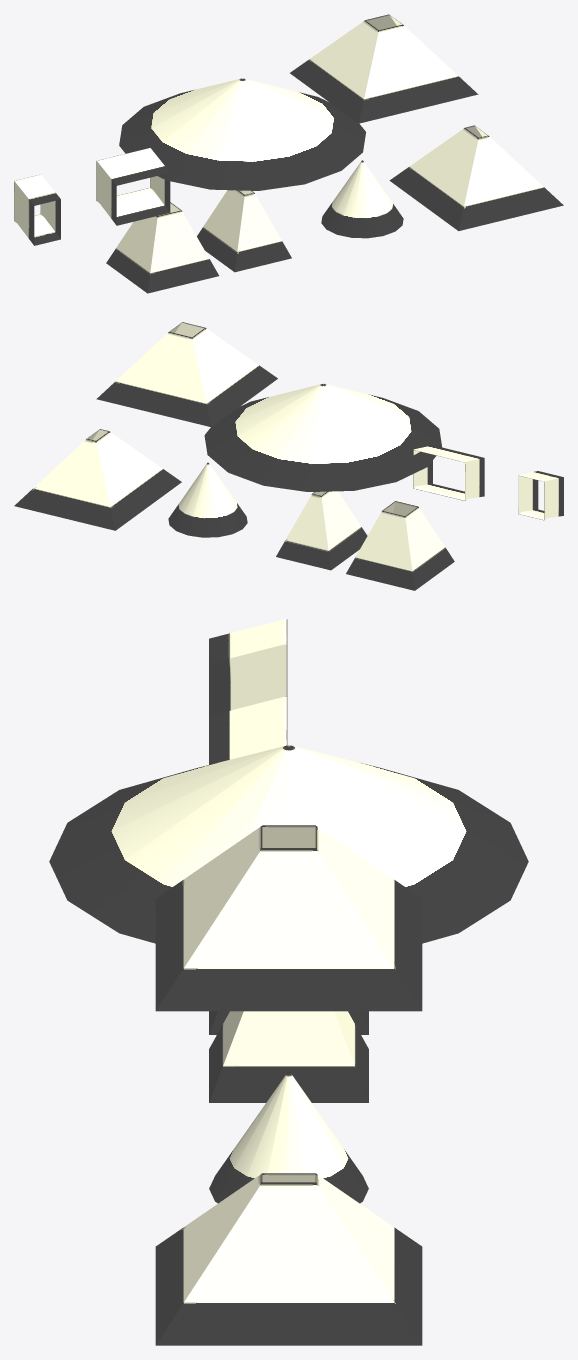
File: fake_light_beam.glb
The picture shows the model from 3 angles, top to bottom: view 1: azimuth 30°, elevation 25°; view 2: azimuth 150°, elevation 25°; view 3: azimuth 270°, elevation 25°; orthographic projection. The views are drawn at different scales.
Parts seen in each view (by area): view 1: ceiling_lamp_mp_1_1_fake_light_2, ceiling_lamp_1_fake_light_2, ceiling_lamp_2_fake_light_2, ceiling_lamp_1_fake_light_1, ceiling_lamp_2_fake_light_1, fake_light_window_2_double, ceiling_lamp_mp_1_1_fake_light_1, fake_light_window_2_single; view 2: ceiling_lamp_mp_1_1_fake_light_2, ceiling_lamp_1_fake_light_2, ceiling_lamp_2_fake_light_2, ceiling_lamp_1_fake_light_1, ceiling_lamp_2_fake_light_1, ceiling_lamp_mp_1_1_fake_light_1, fake_light_window_2_double, fake_light_window_2_single; view 3: ceiling_lamp_mp_1_1_fake_light_2, ceiling_lamp_1_fake_light_2, ceiling_lamp_2_fake_light_2, ceiling_lamp_2_fake_light_1, ceiling_lamp_mp_1_1_fake_light_1, fake_light_window_2_single, fake_light_window_2_double.
Part boxes in pixels (x1=…): ceiling_lamp_mp_1_1_fake_light_2: x1=119, y1=78, x2=365, y2=190; ceiling_lamp_1_fake_light_2: x1=290, y1=14, x2=478, y2=123; ceiling_lamp_2_fake_light_2: x1=389, y1=125, x2=563, y2=231; ceiling_lamp_1_fake_light_1: x1=106, y1=202, x2=219, y2=293; ceiling_lamp_2_fake_light_1: x1=197, y1=190, x2=291, y2=272; fake_light_window_2_double: x1=96, y1=148, x2=170, y2=225; ceiling_lamp_mp_1_1_fake_light_1: x1=321, y1=160, x2=403, y2=238; fake_light_window_2_single: x1=14, y1=174, x2=60, y2=245; ceiling_lamp_mp_1_1_fake_light_2: x1=204, y1=383, x2=442, y2=491; ceiling_lamp_1_fake_light_2: x1=96, y1=322, x2=277, y2=427; ceiling_lamp_2_fake_light_2: x1=14, y1=429, x2=181, y2=530; ceiling_lamp_1_fake_light_1: x1=346, y1=501, x2=454, y2=590; ceiling_lamp_2_fake_light_1: x1=276, y1=491, x2=367, y2=570; ceiling_lamp_mp_1_1_fake_light_1: x1=168, y1=462, x2=247, y2=537; fake_light_window_2_double: x1=413, y1=445, x2=484, y2=500; fake_light_window_2_single: x1=518, y1=471, x2=563, y2=520; ceiling_lamp_mp_1_1_fake_light_2: x1=49, y1=745, x2=528, y2=943; ceiling_lamp_1_fake_light_2: x1=155, y1=825, x2=422, y2=1011; ceiling_lamp_2_fake_light_2: x1=155, y1=1173, x2=422, y2=1345; ceiling_lamp_2_fake_light_1: x1=209, y1=1011, x2=368, y2=1102; ceiling_lamp_mp_1_1_fake_light_1: x1=209, y1=1072, x2=368, y2=1203; fake_light_window_2_single: x1=209, y1=619, x2=287, y2=715; fake_light_window_2_double: x1=209, y1=697, x2=287, y2=764.
Size of the model in its own units: 21.53 by 7.71 by 9.
Materials: 1 (1 with a texture image).
